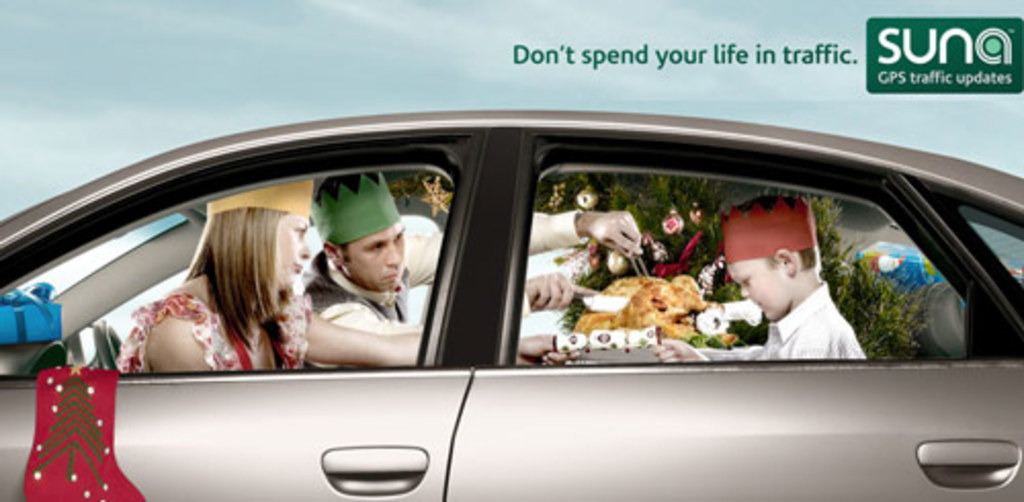Human_hand: (524, 268, 602, 309), (578, 209, 643, 254), (520, 332, 580, 365), (647, 336, 709, 367)
